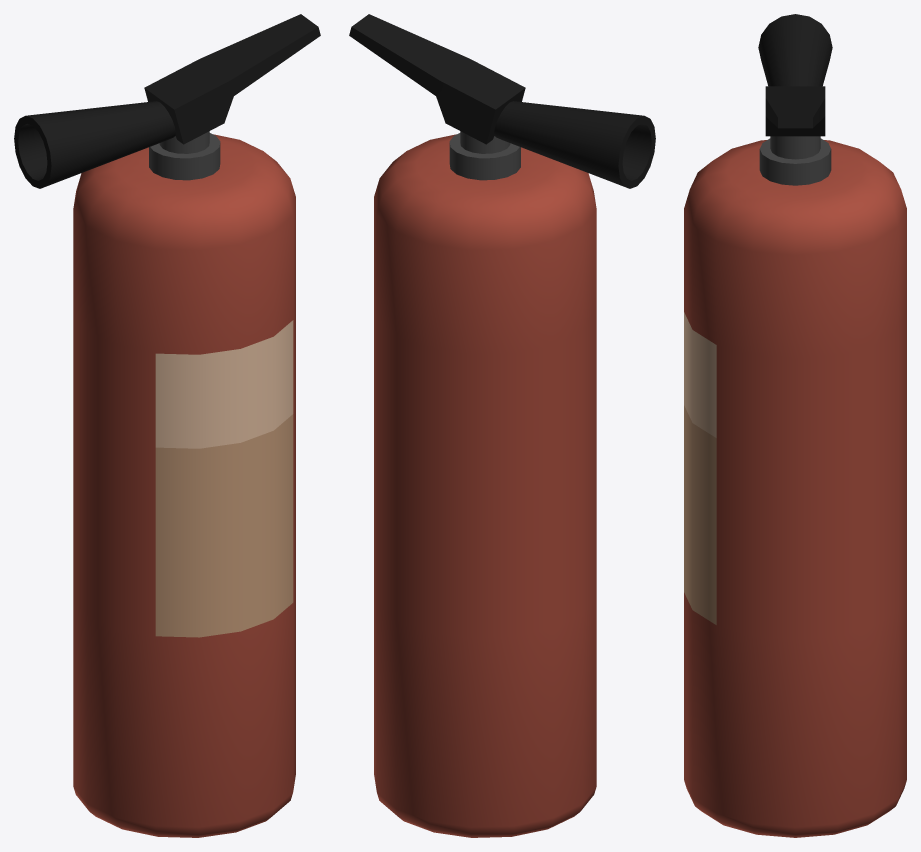
File: FireExtinguisher_01.fbx
3 renders of one model, left to right at view 1: azimuth 30°, elevation 25°; view 2: azimuth 150°, elevation 25°; view 3: azimuth 270°, elevation 25°, orthographic.
Visible parts, largest first — view 1: FireExtinguisher_01; view 2: FireExtinguisher_01; view 3: FireExtinguisher_01.
Boxes of the visible parts, x1,y1,x2,y2 form: FireExtinguisher_01: (14,14,320,837); FireExtinguisher_01: (349,14,655,837); FireExtinguisher_01: (684,14,906,837).
Bounding box in the file's own units: 22.84 × 58.31 × 15.91.
